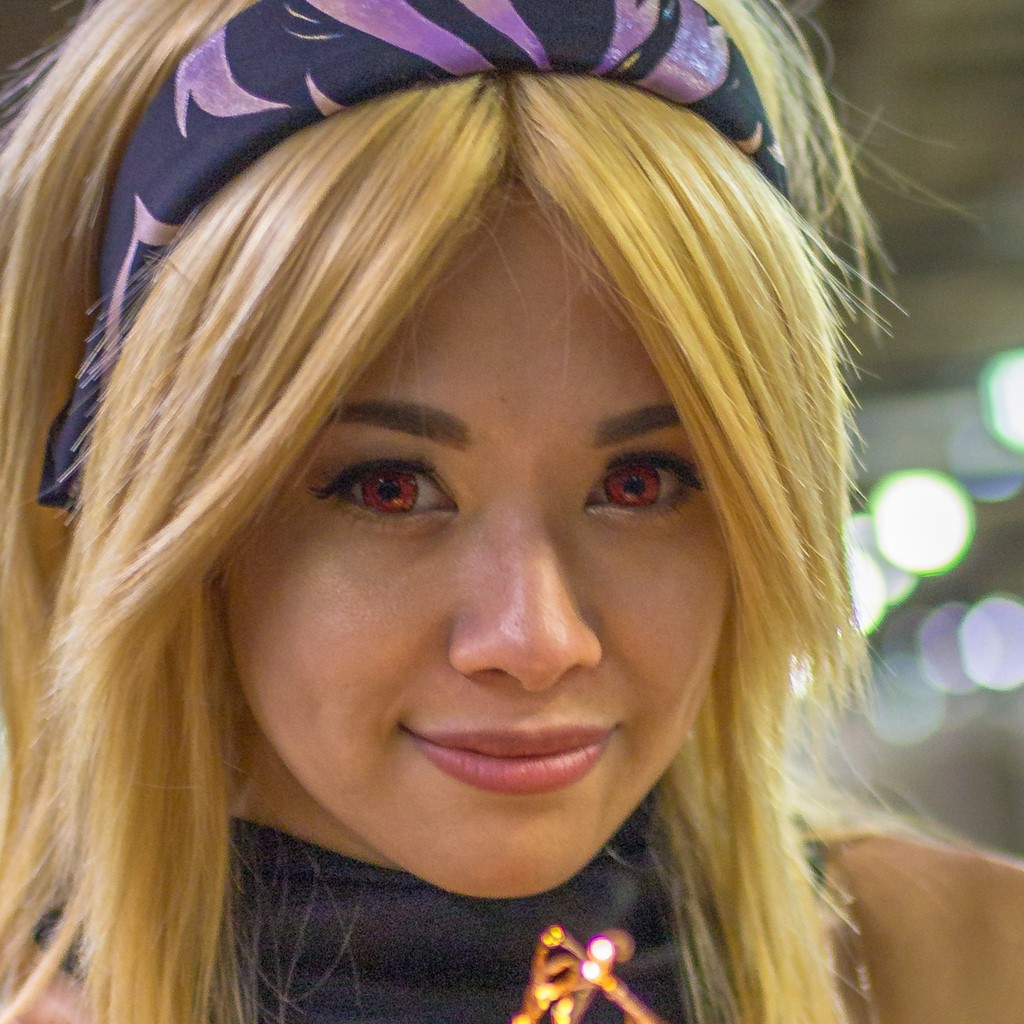sin_mascara: (215, 89, 773, 887)
